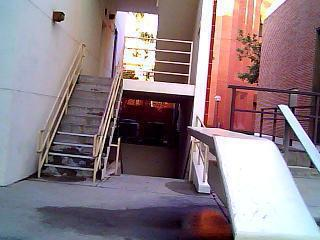Escaleras: (41, 73, 119, 182), (230, 203, 319, 239)
